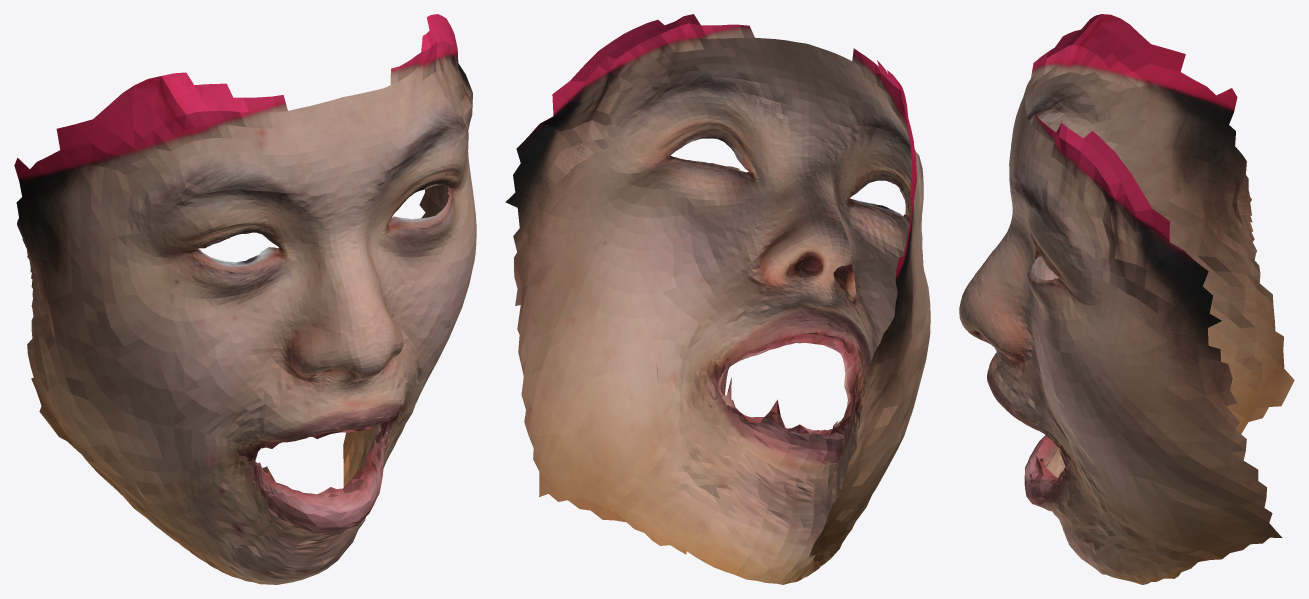
File: 3_mouth_stretch.obj
3 views of the same model, side by side, from view 1: azimuth 30°, elevation 25°; view 2: azimuth 150°, elevation 25°; view 3: azimuth 270°, elevation 25° (orthographic). The views are drawn at different scales.
Bounding box in the file's own units: 165 × 205 × 124.
Materials: 1 (1 with a texture image).
